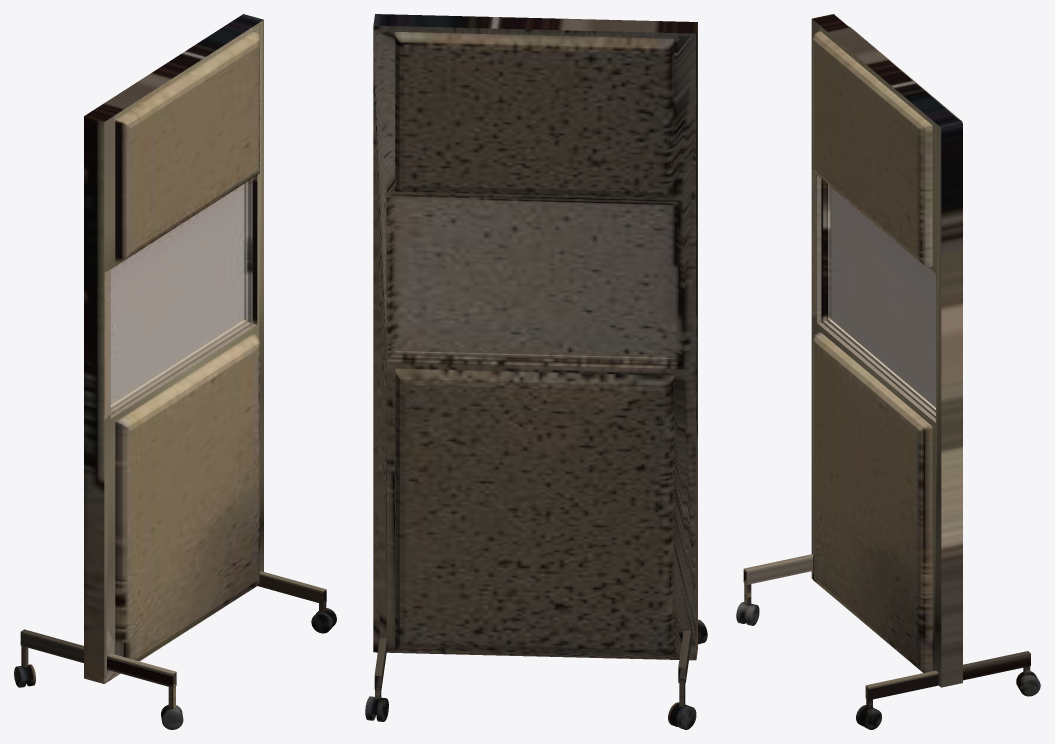
The model's file is soundboard.glb.
3 renders of one model, left to right at view 1: azimuth 30°, elevation 25°; view 2: azimuth 150°, elevation 25°; view 3: azimuth 270°, elevation 25°, orthographic. The views are drawn at different scales.
Visible parts, largest first — view 1: partition; view 2: partition; view 3: partition.
Boxes of the visible parts, x1=… form: partition: x1=14, y1=14, x2=336, y2=729; partition: x1=365, y1=14, x2=707, y2=729; partition: x1=736, y1=14, x2=1040, y2=729.
Size of the model in its own units: 1.04 by 1.96 by 0.9187.
1 material, 1 textured.
